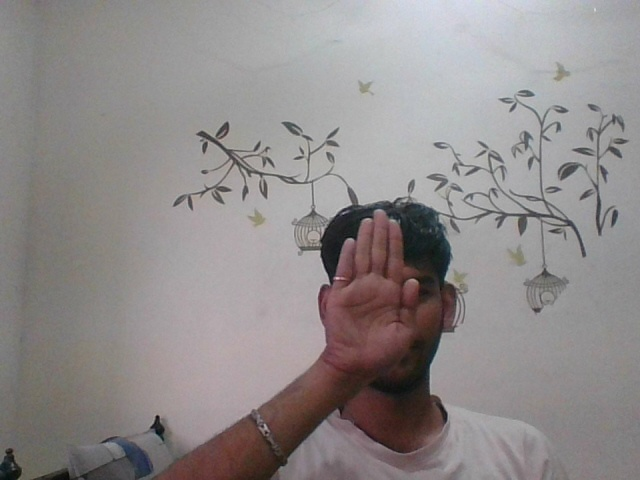Hello: (300, 204, 421, 389)
